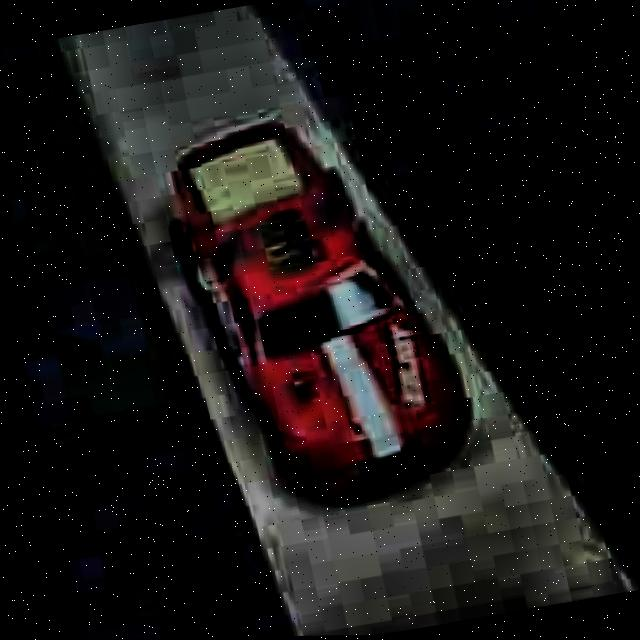car: (143, 95, 495, 532)
